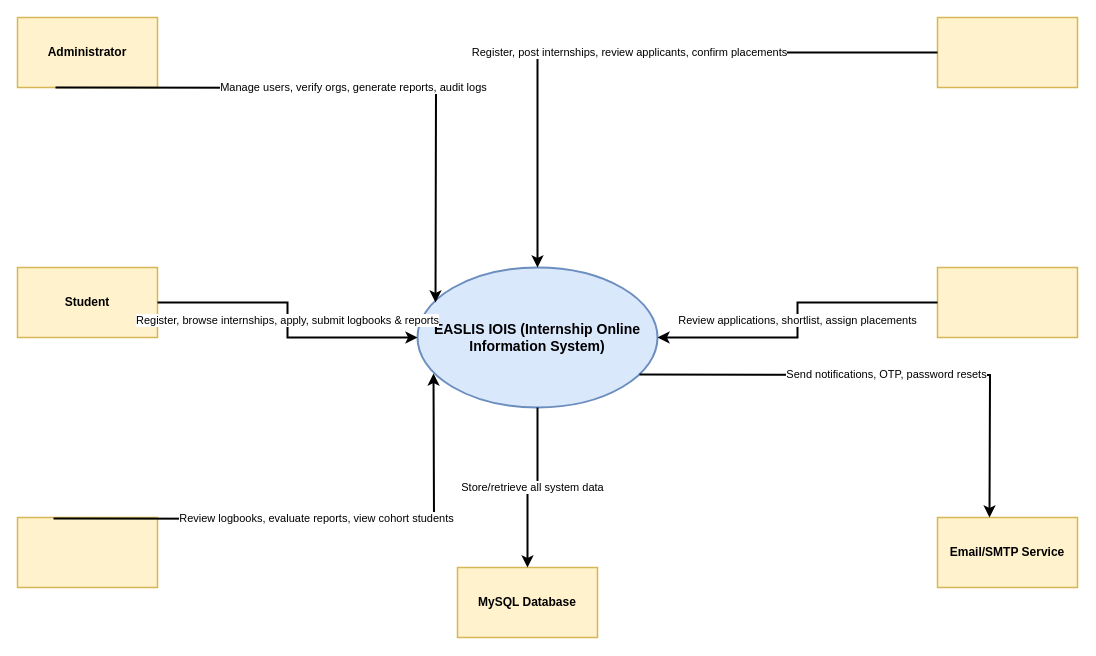
Some shapes in this 1096 by 656 pixel diagram are drawn without their labels. Here are the shapes that lost their labels. From the top down, the centre of each, then its label:
At pixel 1007 52: "Organization (Employer)".
At pixel 1007 302: "Coordinator".
At pixel 87 552: "Supervisor".
